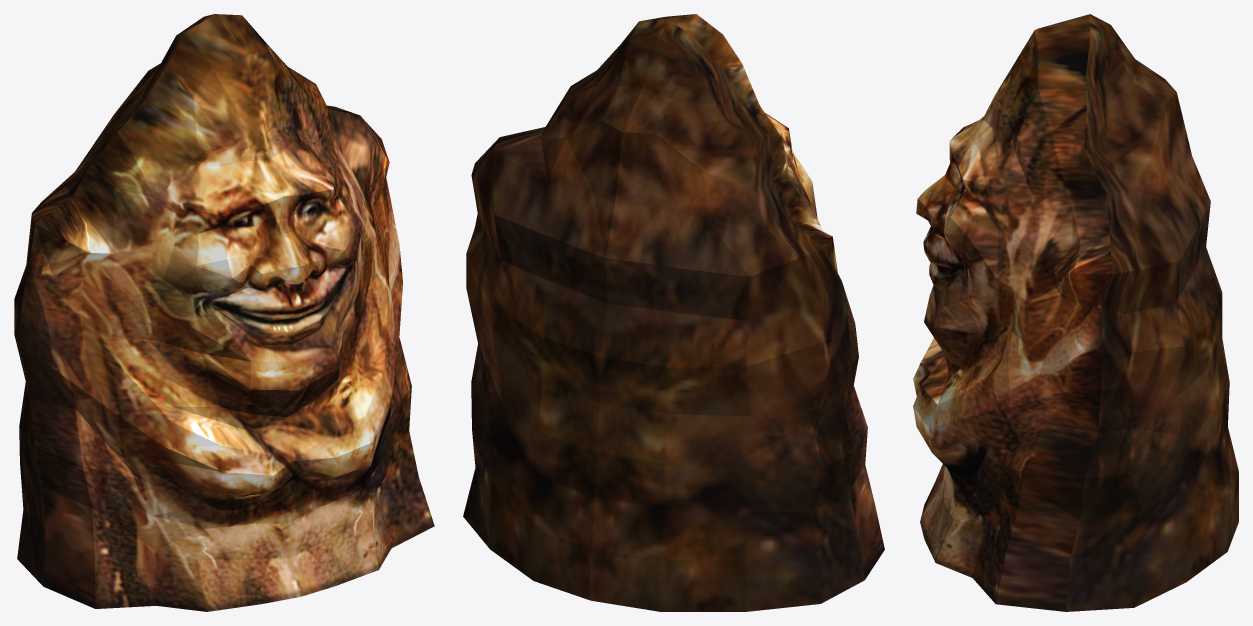
Rendered from Wall Of Stone.fbx.
3 renders of one model, left to right at view 1: azimuth 30°, elevation 25°; view 2: azimuth 150°, elevation 25°; view 3: azimuth 270°, elevation 25°, orthographic. The views are drawn at different scales.
Parts seen in each view (by area): view 1: Body; view 2: Body; view 3: Body.
Boxes of the visible parts, x1,y1,x2,y2 form: Body: (14, 14, 434, 611); Body: (463, 14, 884, 611); Body: (913, 14, 1238, 611).
Size of the model in its own units: 1134 by 1497 by 872.
Materials: 1 (1 with a texture image).
